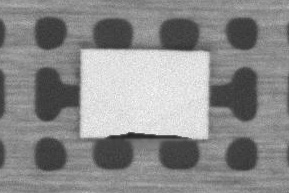DIE_BROKEN: (106, 130, 193, 140)
